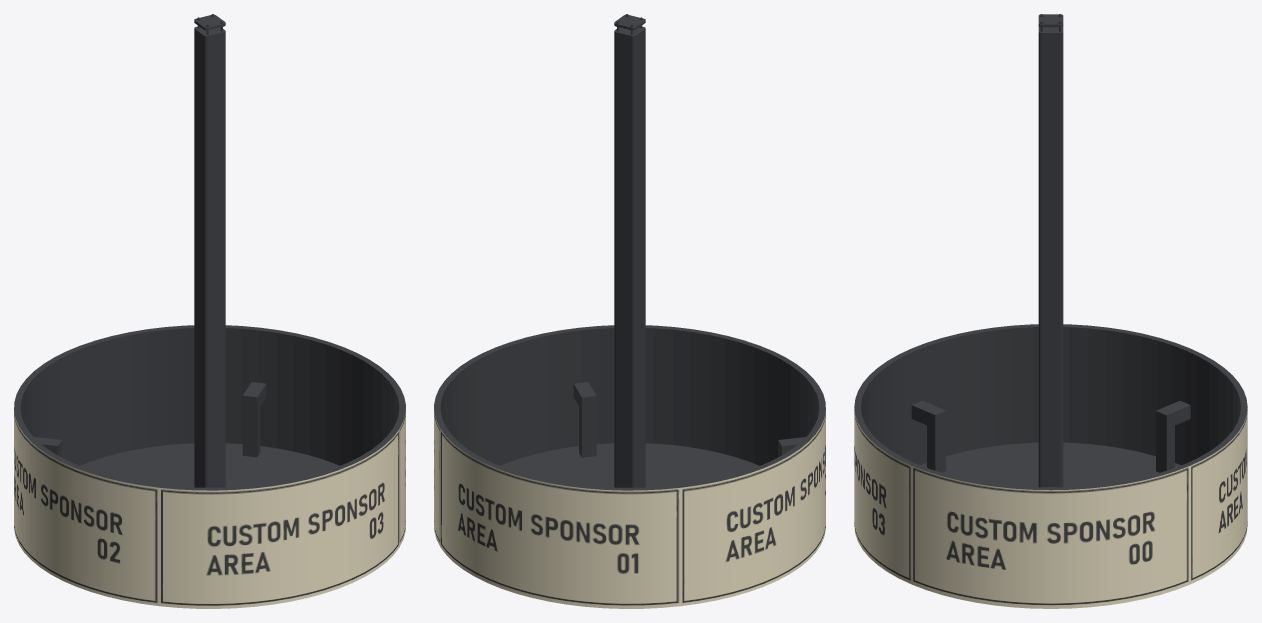
Rendered from sponsor_disc.fbx.
The picture shows the model from 3 angles, left to right: view 1: azimuth 30°, elevation 25°; view 2: azimuth 150°, elevation 25°; view 3: azimuth 270°, elevation 25°; orthographic projection.
Parts seen in each view (by area): view 1: support, sponsor_disc_rotating; view 2: support, sponsor_disc_rotating; view 3: support, sponsor_disc_rotating.
Part boxes in pixels (x1,y1,x2,y2): support: [14, 14, 405, 490]; sponsor_disc_rotating: [14, 408, 405, 608]; support: [434, 14, 825, 490]; sponsor_disc_rotating: [434, 408, 825, 608]; support: [854, 14, 1247, 490]; sponsor_disc_rotating: [854, 408, 1247, 608].
Size of the model in its own units: 600 by 855 by 600.
